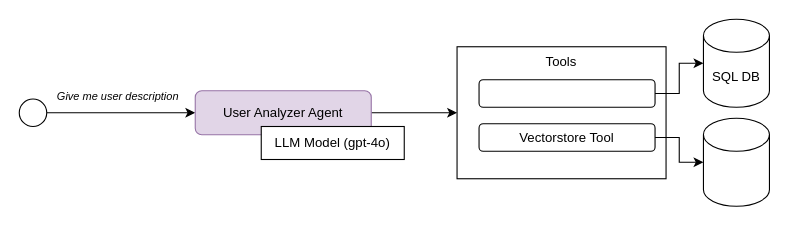
This 789x226 diagram has some shape labels left out. The centre of each missing label's shape, as x and y in pixels:
"SQL Tool" belongs at (x=566, y=93).
"Vector DB" belongs at (x=735, y=161).
